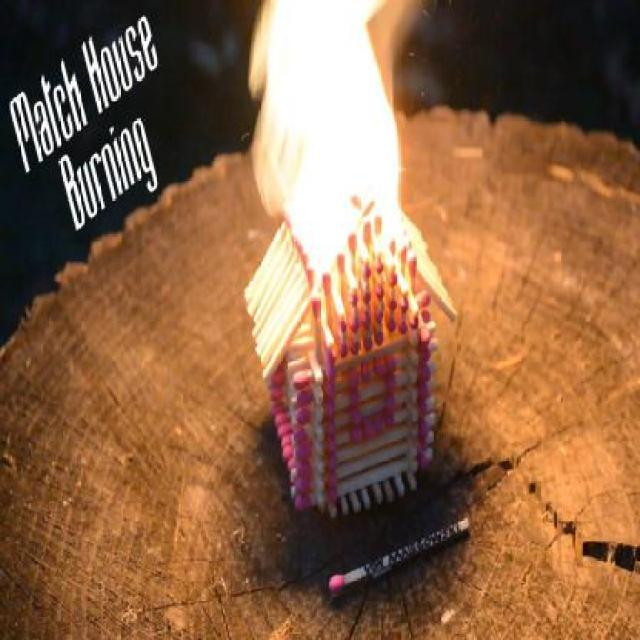Fire: (250, 0, 398, 195), (290, 196, 353, 242), (352, 172, 377, 226), (374, 196, 400, 247), (304, 238, 332, 284), (266, 193, 289, 212), (334, 238, 352, 262), (347, 265, 355, 290)
